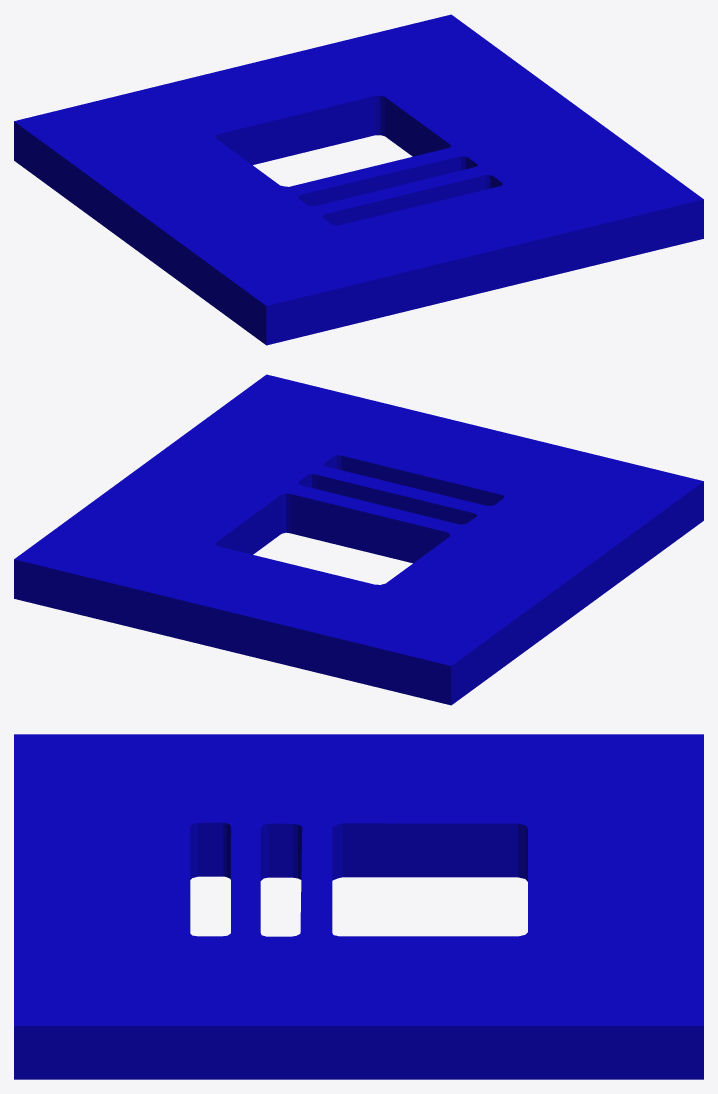
Rendered from jobox.glb.
3 renders of one model, top to bottom at view 1: azimuth 30°, elevation 25°; view 2: azimuth 150°, elevation 25°; view 3: azimuth 270°, elevation 25°, orthographic. The views are drawn at different scales.
Parts seen in each view (by area): view 1: Cube; view 2: Cube; view 3: Cube.
Boxes of the visible parts, bbox=[...] form: Cube: bbox=[14, 14, 703, 345]; Cube: bbox=[14, 374, 703, 705]; Cube: bbox=[14, 734, 703, 1079].
Bounding box in the file's own units: 5 × 0.4306 × 5.
